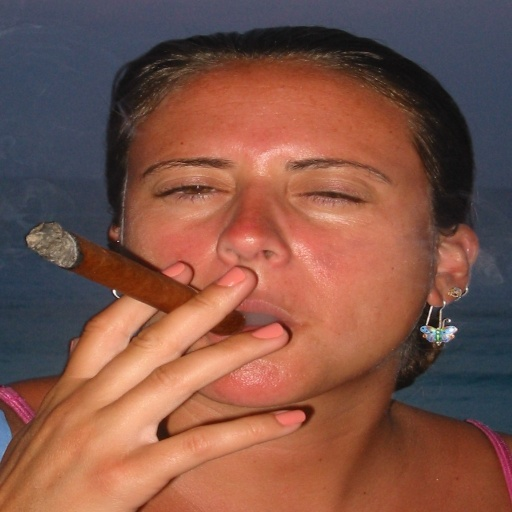hand: (6, 236, 288, 511)
